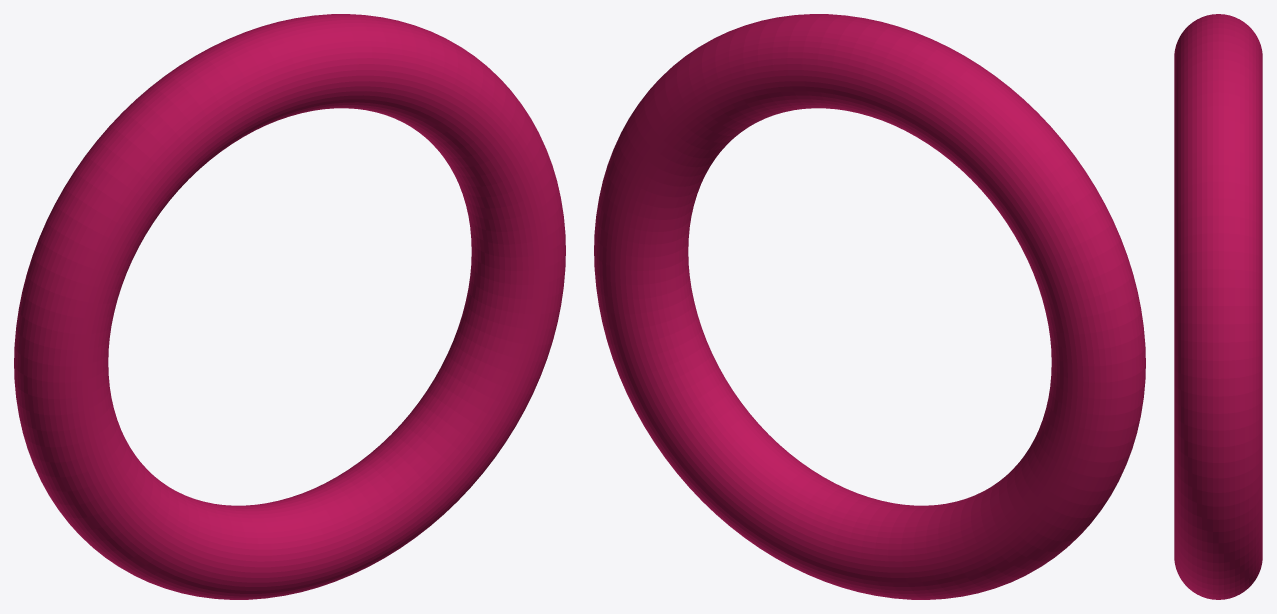
The picture shows the model from 3 angles, left to right: view 1: azimuth 30°, elevation 25°; view 2: azimuth 150°, elevation 25°; view 3: azimuth 270°, elevation 25°; orthographic projection. The views are drawn at different scales.
Visible parts, largest first — view 1: world; view 2: world; view 3: world.
Part boxes in pixels (box(x1,y1,x2,y2)): world: box(14, 14, 565, 599); world: box(594, 14, 1145, 599); world: box(1174, 14, 1262, 599).
Size of the model in its own units: 22 by 22 by 3.33.
